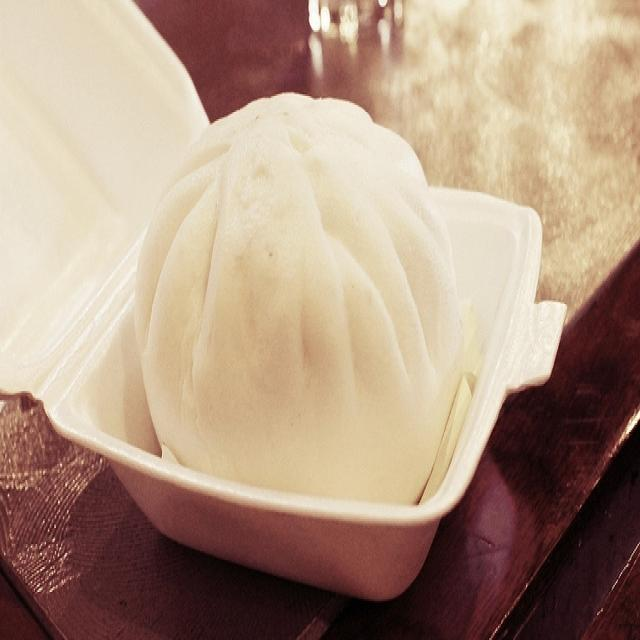带馅早点: (18, 34, 594, 613)
